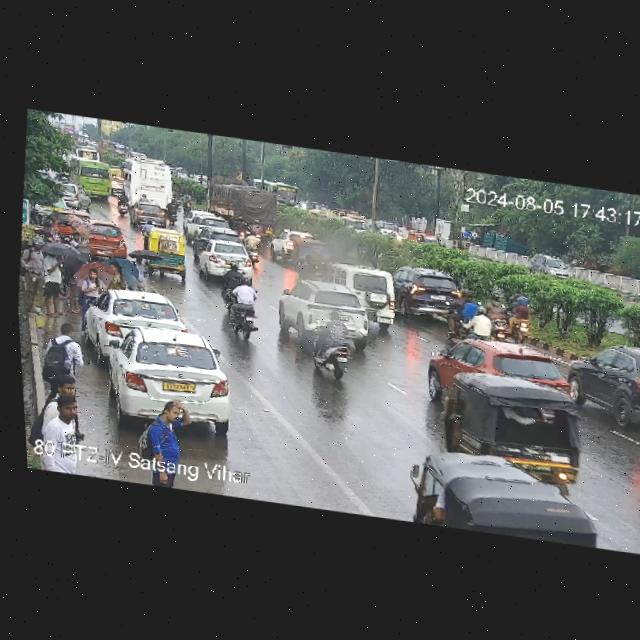bus: (63, 154, 117, 197)
car: (419, 438, 611, 549), (437, 366, 599, 485), (78, 318, 240, 432), (428, 332, 583, 399), (80, 284, 186, 355), (279, 278, 388, 345), (563, 336, 640, 423), (393, 264, 469, 318), (139, 227, 195, 281), (195, 236, 256, 279), (524, 247, 579, 284), (81, 220, 130, 260), (183, 210, 243, 239), (266, 224, 309, 263), (251, 178, 307, 207), (51, 179, 100, 211), (48, 205, 94, 239), (127, 198, 173, 229), (292, 237, 329, 259)
motorcycle: (307, 306, 358, 378), (227, 277, 261, 341), (505, 292, 540, 346), (479, 288, 511, 341), (219, 260, 245, 310), (466, 305, 500, 342), (444, 289, 470, 333), (241, 227, 267, 265), (113, 189, 131, 218), (170, 187, 184, 213), (386, 224, 404, 244), (180, 193, 196, 209)
person: (29, 386, 94, 453), (40, 320, 90, 404), (133, 399, 196, 465), (30, 242, 73, 315), (15, 240, 51, 306), (79, 264, 104, 297), (108, 256, 129, 290)
truck: (204, 181, 287, 230), (337, 209, 370, 234), (406, 227, 442, 248)
